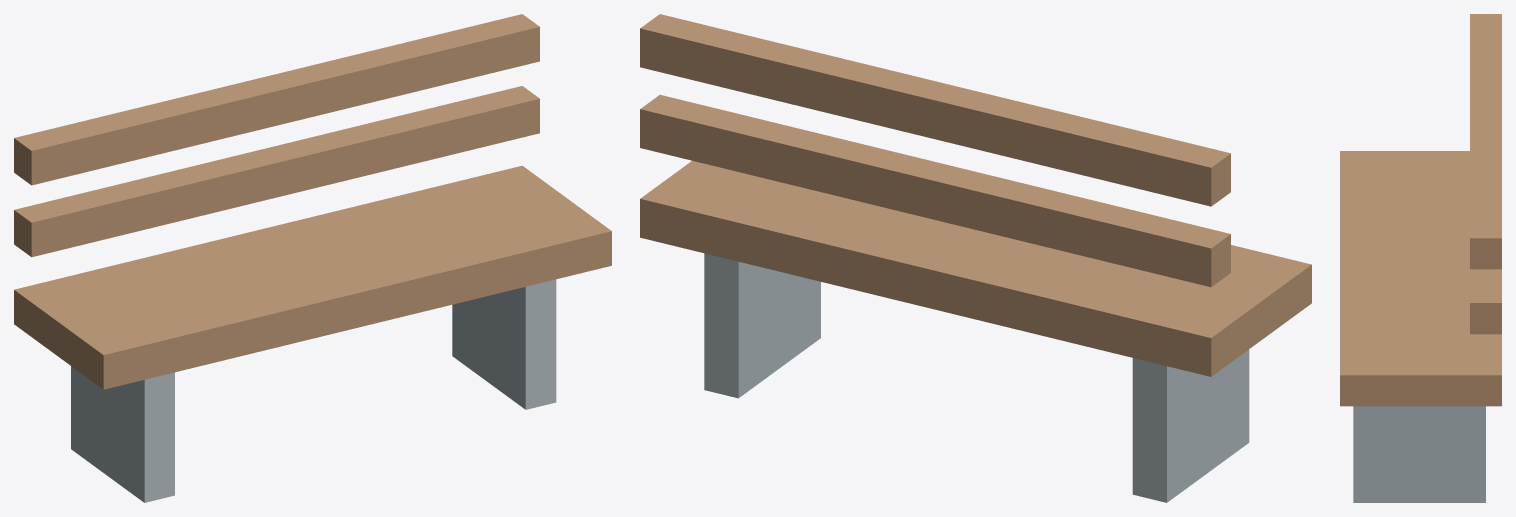
Rendered from bench-procedural.glb.
3 renders of one model, left to right at view 1: azimuth 30°, elevation 25°; view 2: azimuth 150°, elevation 25°; view 3: azimuth 270°, elevation 25°, orthographic. The views are drawn at different scales.
Parts seen in each view (by area): view 1: slat (×3), seat, leg (×2); view 2: slat (×3), seat, leg (×2); view 3: seat, leg, slat (×3).
Part boxes in pixels (left/top/right/bottom): slat (×3): left=14, top=14, right=539, bottom=336; seat: left=15, top=167, right=611, bottom=389; leg (×2): left=71, top=279, right=556, bottom=502; slat (×3): left=640, top=14, right=1230, bottom=376; seat: left=660, top=160, right=1311, bottom=362; leg (×2): left=704, top=253, right=1249, bottom=502; seat: left=1340, top=151, right=1498, bottom=406; leg: left=1353, top=406, right=1485, bottom=502; slat (×3): left=1470, top=14, right=1501, bottom=406.
Bounding box in the file's own units: 2 × 1.19 × 0.61.
